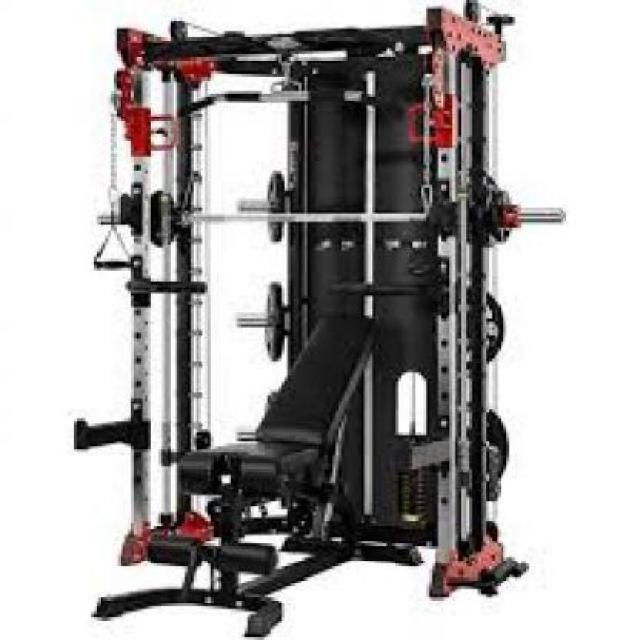smith machine: (69, 2, 569, 630)
